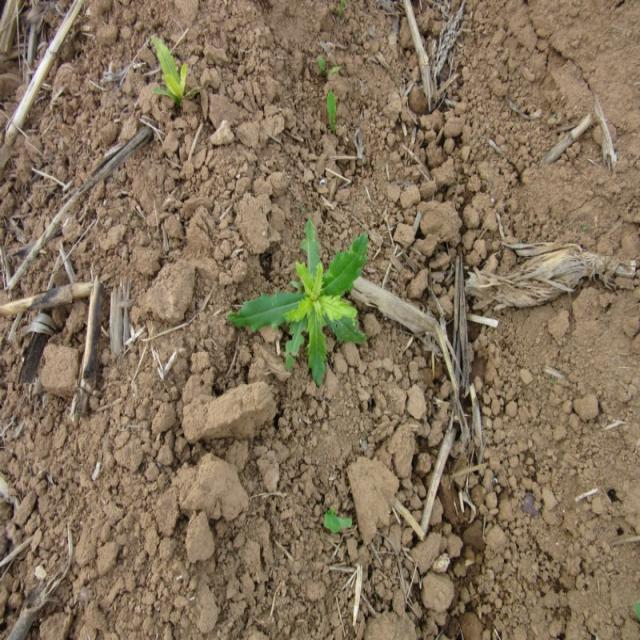cs: (222, 212, 373, 388)
